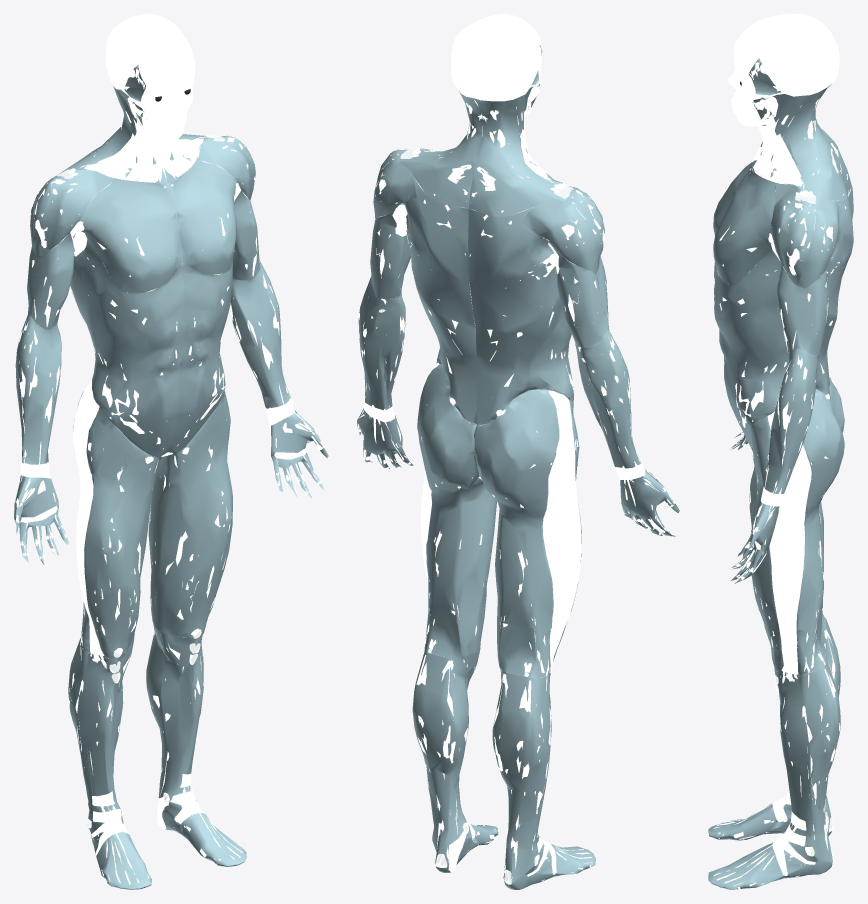
The model's file is digestorio.glb.
The picture shows the model from 3 angles, left to right: view 1: azimuth 30°, elevation 25°; view 2: azimuth 150°, elevation 25°; view 3: azimuth 270°, elevation 25°; orthographic projection. The views are drawn at different scales.
Visible parts, largest first — view 1: Investing abdominal fascia.r, Fascia lata.l, Fascia lata.r, Crural fascia.l, Crural fascia.r, Pectoral fascia.r, Investing abdominal fascia.l, Pectoral fascia.l, Antebrachial fascia.r, Antebrachial fascia.l, Deltoid fascia.r, Iliotibial tract.r (+14 smaller); view 2: Investing abdominal fascia.r, Fascia lata.r, Fascia lata.l, Investing abdominal fascia.l, Crural fascia.r, Crural fascia.l, Superficial investing cervical fascia.r, Iliotibial tract.r, Antebrachial fascia.r, Antebrachial fascia.l, Deltoid fascia.r, Superficial investing cervical fascia.l (+11 smaller); view 3: Investing abdominal fascia.l, Crural fascia.l, Fascia lata.l, Iliotibial tract.l, Deltoid fascia.l, Pectoral fascia.l, Superficial investing cervical fascia.l, Antebrachial fascia.l, Brachial fascia.l, Epicranial aponeurosis.l, Crural fascia.r, Temporoparietalis muscle.l (+16 smaller).
Part boxes in pixels (box(x1,y1,x2,y2)): Investing abdominal fascia.r: box(70, 239, 184, 457); Fascia lata.l: box(148, 391, 232, 638); Fascia lata.r: box(73, 391, 162, 658); Crural fascia.l: box(146, 622, 246, 866); Crural fascia.r: box(68, 639, 151, 889); Pectoral fascia.r: box(78, 178, 182, 294); Investing abdominal fascia.l: box(168, 262, 232, 452); Pectoral fascia.l: box(167, 158, 237, 274); Antebrachial fascia.r: box(15, 315, 61, 464); Antebrachial fascia.l: box(230, 261, 291, 408); Deltoid fascia.r: box(30, 170, 113, 257); Iliotibial tract.r: box(73, 381, 106, 668); Investing abdominal fascia.r: box(467, 206, 573, 424); Fascia lata.r: box(474, 389, 581, 677); Fascia lata.l: box(417, 364, 496, 657); Investing abdominal fascia.l: box(401, 177, 476, 424); Crural fascia.r: box(492, 666, 595, 889); Crural fascia.l: box(412, 650, 498, 872); Superficial investing cervical fascia.r: box(468, 86, 570, 216); Iliotibial tract.r: box(542, 390, 581, 675); Antebrachial fascia.r: box(575, 330, 640, 468); Antebrachial fascia.l: box(358, 276, 405, 410); Deltoid fascia.r: box(521, 173, 604, 274); Superficial investing cervical fascia.l: box(399, 91, 482, 208); Investing abdominal fascia.l: box(714, 195, 853, 448); Crural fascia.l: box(708, 656, 840, 889); Fascia lata.l: box(750, 389, 844, 674); Iliotibial tract.l: box(767, 411, 811, 683); Deltoid fascia.l: box(770, 183, 842, 288); Pectoral fascia.l: box(713, 171, 775, 285); Superficial investing cervical fascia.l: box(751, 84, 847, 205); Antebrachial fascia.l: box(764, 348, 819, 493); Brachial fascia.l: box(777, 261, 829, 357); Epicranial aponeurosis.l: box(737, 18, 839, 77); Crural fascia.r: box(708, 618, 840, 840); Temporoparietalis muscle.l: box(758, 46, 820, 96).
Bounding box in the file's own units: 0.6707 × 1.7 × 0.2672.
